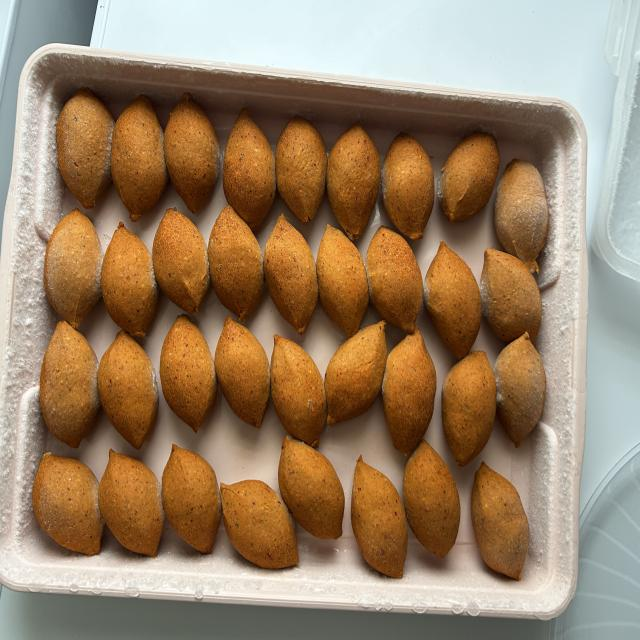kobi: (216, 466, 302, 578), (37, 324, 100, 453), (272, 435, 346, 541), (466, 462, 532, 577), (351, 449, 408, 580), (36, 451, 102, 559), (326, 118, 383, 242), (99, 448, 162, 558), (381, 329, 435, 455), (163, 96, 220, 214), (222, 109, 278, 229), (421, 242, 481, 354), (264, 216, 318, 340), (364, 219, 422, 333), (45, 210, 101, 328), (56, 99, 115, 210), (112, 96, 163, 224), (212, 196, 262, 324), (497, 159, 551, 275), (102, 328, 157, 441), (480, 243, 541, 344), (213, 320, 269, 430), (380, 130, 435, 241), (493, 330, 548, 441), (407, 444, 459, 561), (167, 309, 215, 435), (155, 206, 208, 316), (272, 336, 326, 442), (439, 134, 504, 222), (168, 444, 219, 556), (104, 224, 154, 336), (326, 329, 386, 422), (319, 221, 367, 336), (443, 354, 494, 462), (278, 115, 323, 219)
